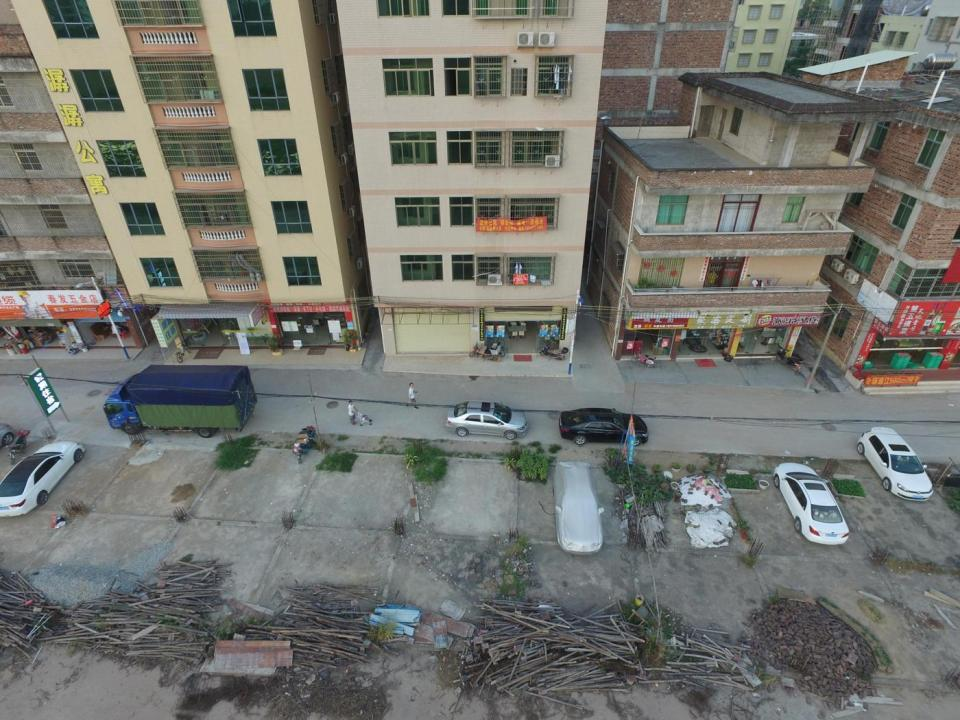car: (0, 440, 86, 519), (774, 463, 848, 544), (855, 426, 934, 501), (553, 460, 604, 554), (558, 407, 648, 445), (446, 401, 527, 438)
truck: (101, 365, 258, 437)
